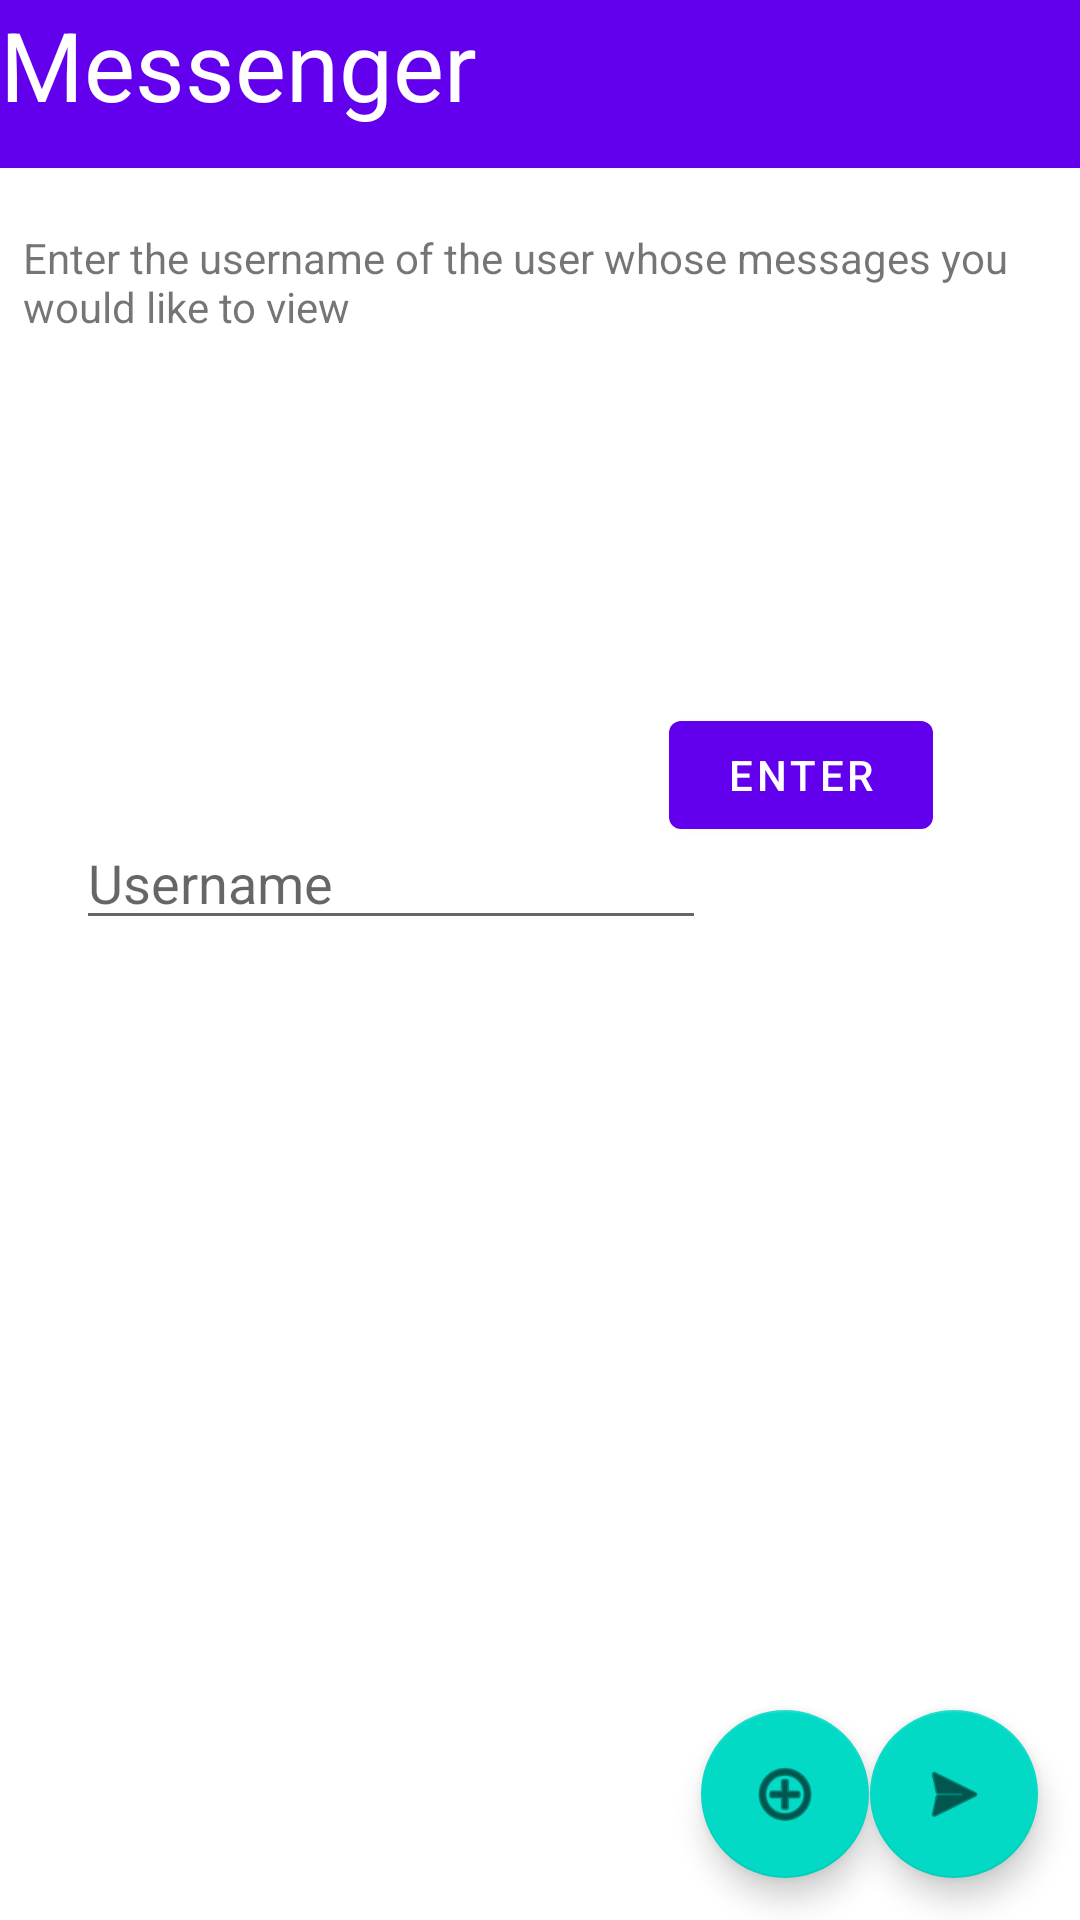

Where to tap for icons on this 1080x1920 app screen, as point (x, y):
add: point (785, 1794)
send: point (954, 1794)
